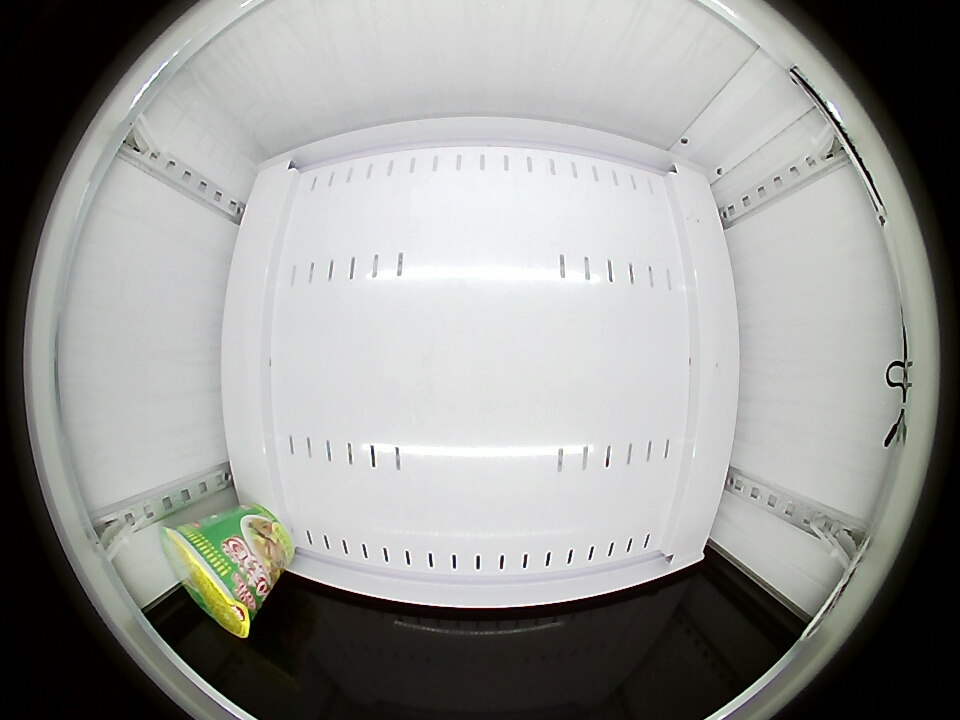heweidao2: (160, 520, 262, 638)
